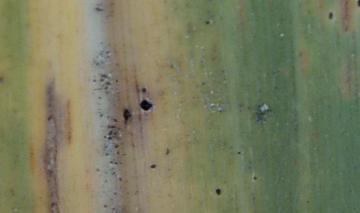tarspot: (139, 98, 156, 113), (122, 107, 133, 127), (326, 10, 335, 21), (164, 146, 171, 157), (106, 129, 113, 140), (214, 187, 222, 196), (251, 173, 259, 182), (94, 6, 105, 12), (203, 19, 212, 26), (140, 86, 147, 93), (150, 163, 157, 169), (113, 144, 120, 150), (355, 1, 360, 9), (236, 149, 241, 157)
